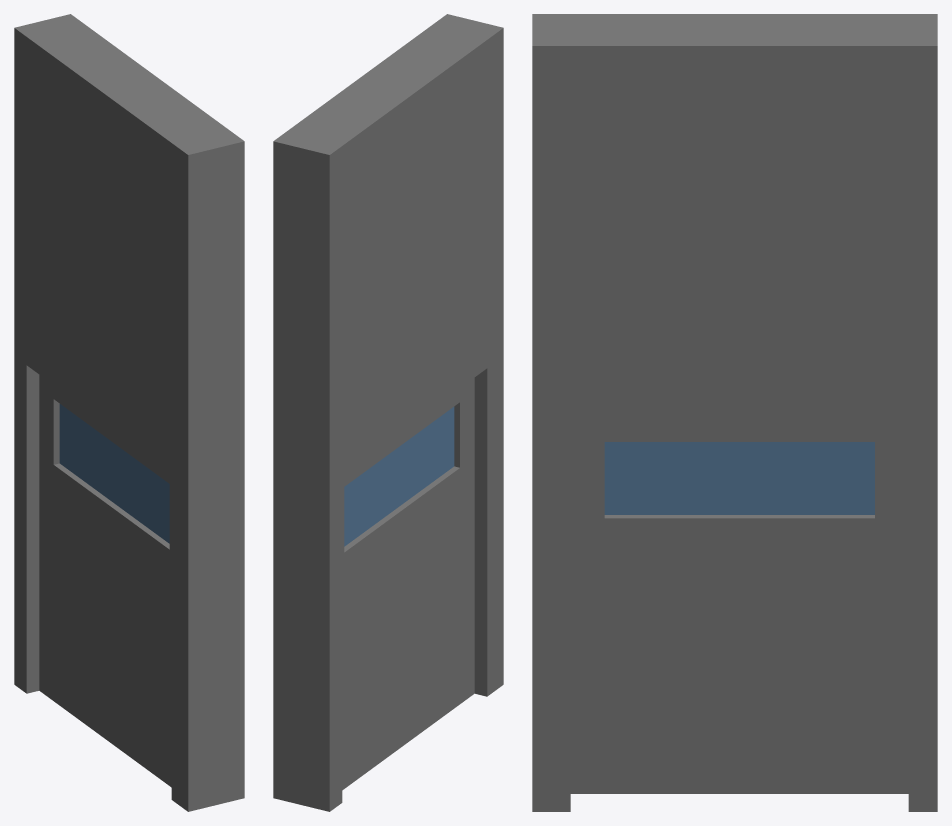
File: InteriorDoor.FBX
3 renders of one model, left to right at view 1: azimuth 30°, elevation 25°; view 2: azimuth 150°, elevation 25°; view 3: azimuth 270°, elevation 25°, orthographic. The views are drawn at different scales.
Visible parts, largest first — view 1: InteriorDoorFrame, Door; view 2: InteriorDoorFrame, Door; view 3: InteriorDoorFrame, Door.
Boxes of the visible parts, <box> form: InteriorDoorFrame: <box>14,14,244,811</box>; Door: <box>39,375,171,787</box>; InteriorDoorFrame: <box>273,14,503,811</box>; Door: <box>342,378,474,790</box>; InteriorDoorFrame: <box>532,14,937,811</box>; Door: <box>570,429,908,793</box>.
Size of the model in its own units: 17.72 by 197 by 94.49.
